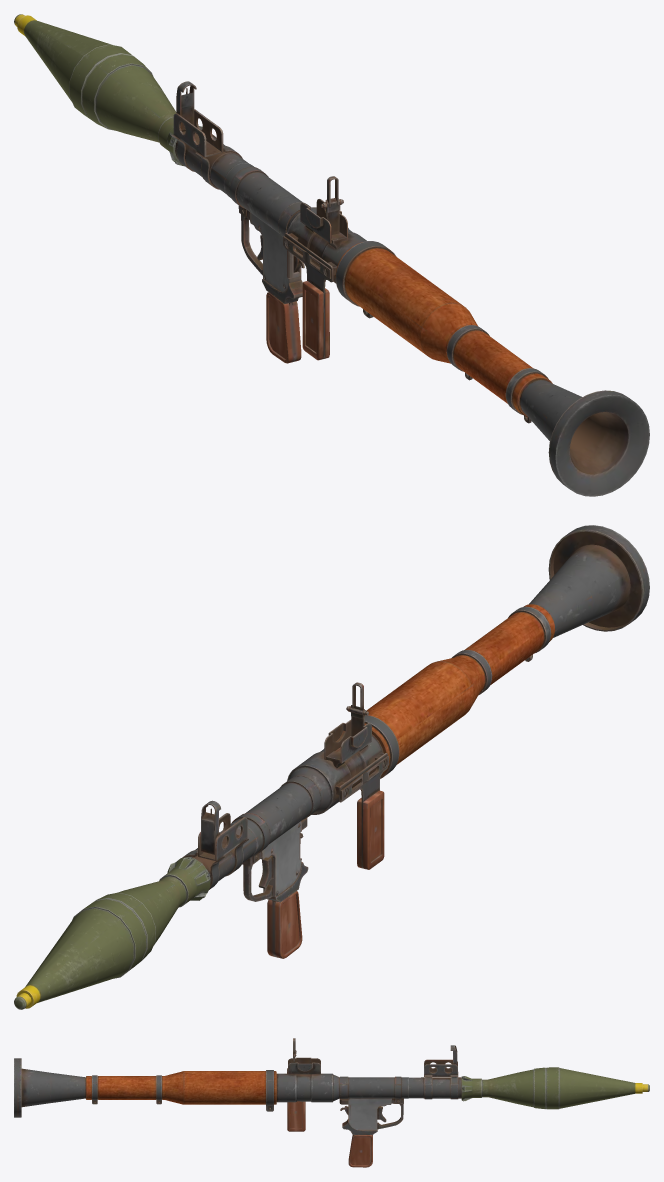
Rendered from rpg7_lod.glb.
3 renders of one model, top to bottom at view 1: azimuth 30°, elevation 25°; view 2: azimuth 150°, elevation 25°; view 3: azimuth 270°, elevation 25°, orthographic. The views are drawn at different scales.
Parts seen in each view (by area): view 1: rpg7_body, rocket; view 2: rpg7_body, rocket; view 3: rpg7_body, rocket.
Boxes of the visible parts, x1=… form: rpg7_body: x1=171, y1=81, x2=649, y2=496; rocket: x1=14, y1=14, x2=202, y2=166; rpg7_body: x1=182, y1=525, x2=649, y2=958; rocket: x1=14, y1=857, x2=210, y2=1009; rpg7_body: x1=14, y1=1038, x2=461, y2=1167; rocket: x1=461, y1=1067, x2=649, y2=1109.
Size of the model in its own units: 0.126 by 0.2896 by 1.35.
Materials: 2 (2 with a texture image).
